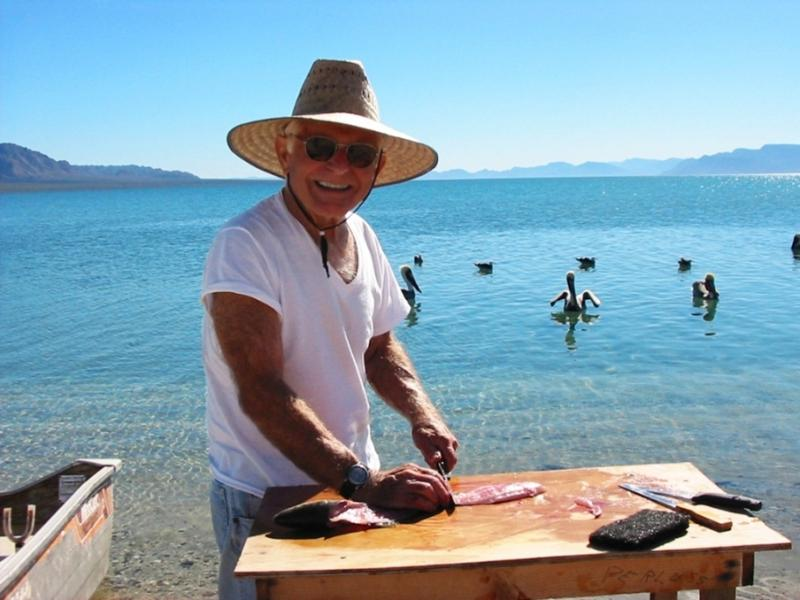person: (201, 59, 459, 600)
